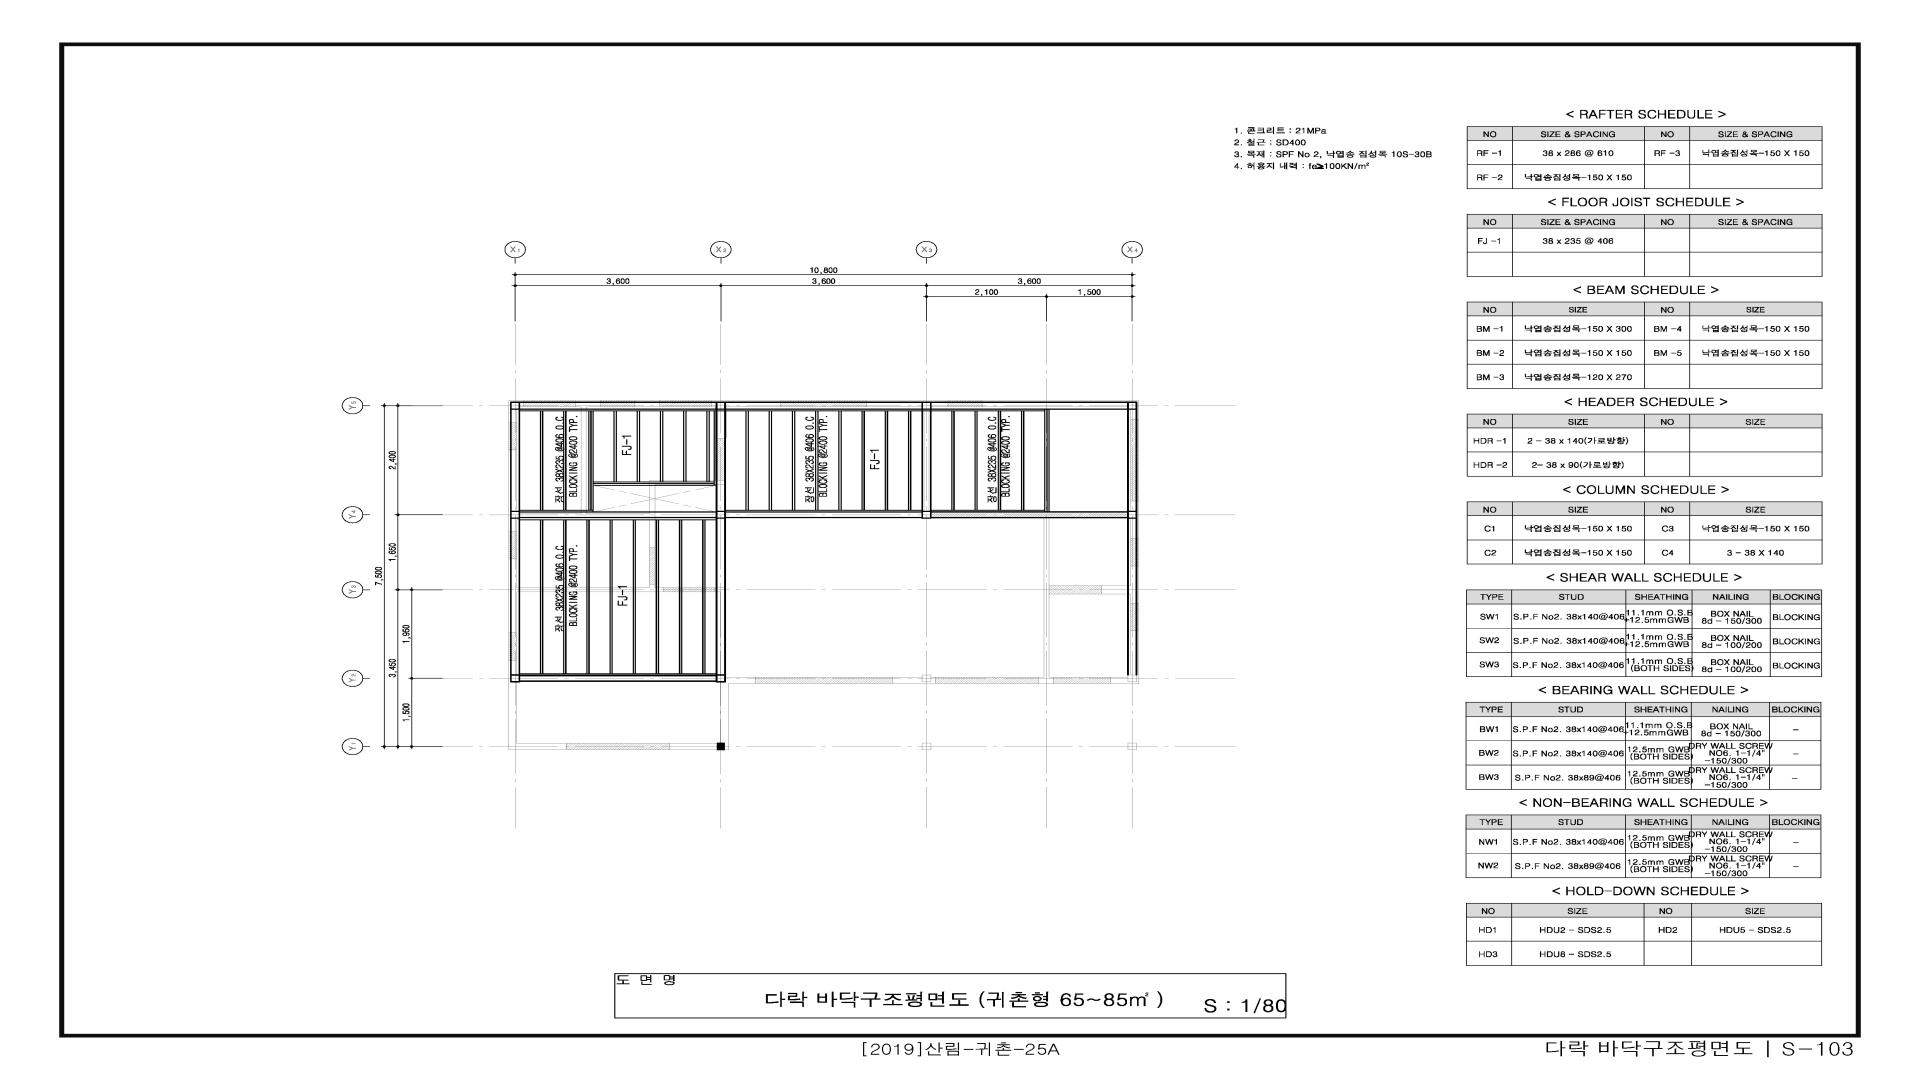background: (0, 0, 1920, 1080)
wall: (520, 401, 716, 410), (931, 401, 1127, 410), (727, 401, 922, 410), (1127, 518, 1138, 675), (716, 518, 727, 674), (510, 518, 520, 674), (520, 512, 716, 518), (931, 512, 1127, 518), (520, 675, 716, 682), (727, 512, 922, 518), (716, 410, 727, 510), (1127, 410, 1138, 510), (922, 410, 931, 512), (510, 410, 520, 510), (716, 401, 727, 410), (1127, 401, 1138, 410), (510, 674, 521, 683), (716, 674, 727, 683), (510, 401, 520, 410), (922, 401, 931, 410), (1127, 510, 1138, 518), (716, 510, 727, 518), (510, 510, 520, 518), (922, 512, 931, 518)
